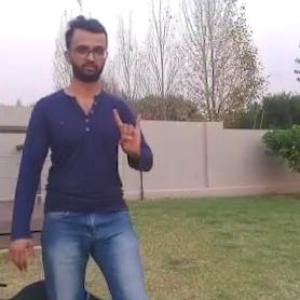takeoff-hand: (111, 99, 149, 161)
